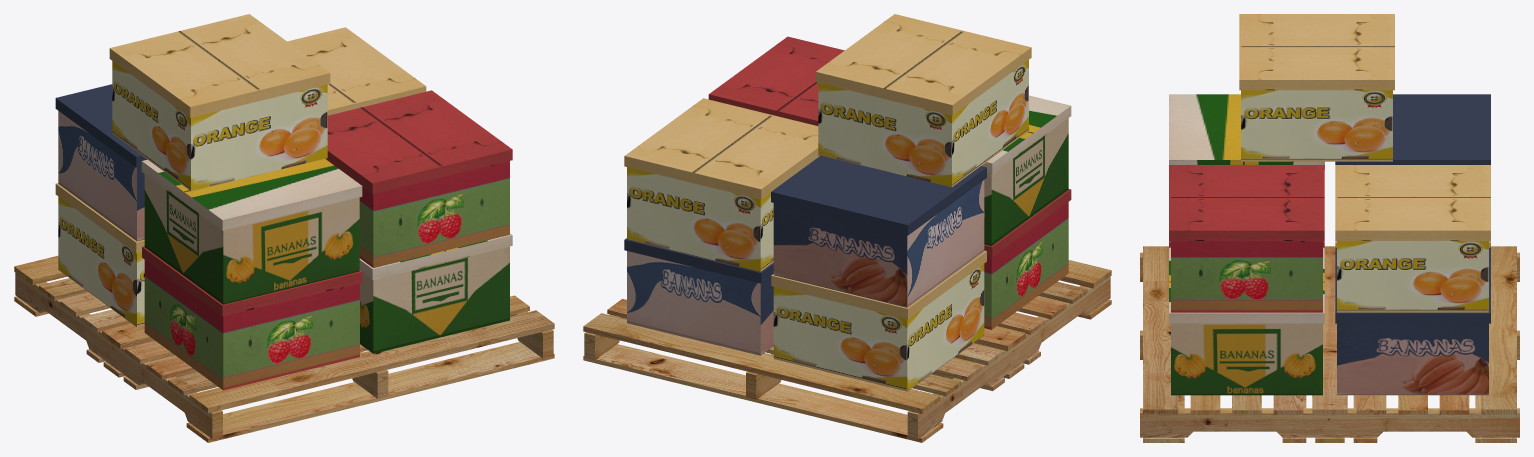
The model's file is Cardboard_boxGroup01b.FBX.
3 views of the same model, side by side, from view 1: azimuth 30°, elevation 25°; view 2: azimuth 150°, elevation 25°; view 3: azimuth 270°, elevation 25° (orthographic). The views are drawn at different scales.
Parts seen in each view (by area): view 1: Cardboard_boxGroup01b2, Cardboard_boxGroup01b1, Cardboard_boxG01; view 2: Cardboard_boxGroup01b2, Cardboard_boxGroup01b1, Cardboard_boxG01; view 3: Cardboard_boxGroup01b2, Cardboard_boxGroup01b1, Cardboard_boxG01.
Part boxes in pixels (left/top/right/bottom): Cardboard_boxGroup01b2: left=55, top=14, right=512, bottom=353; Cardboard_boxGroup01b1: left=55, top=84, right=512, bottom=390; Cardboard_boxG01: left=14, top=255, right=554, bottom=442; Cardboard_boxGroup01b2: left=624, top=14, right=1071, bottom=391; Cardboard_boxGroup01b1: left=624, top=36, right=1071, bottom=355; Cardboard_boxG01: left=583, top=260, right=1111, bottom=442; Cardboard_boxGroup01b2: left=1169, top=14, right=1490, bottom=395; Cardboard_boxGroup01b1: left=1169, top=94, right=1490, bottom=395; Cardboard_boxG01: left=1140, top=246, right=1519, bottom=442.
Bounding box in the file's own units: 2.16 × 1.73 × 2.12.
